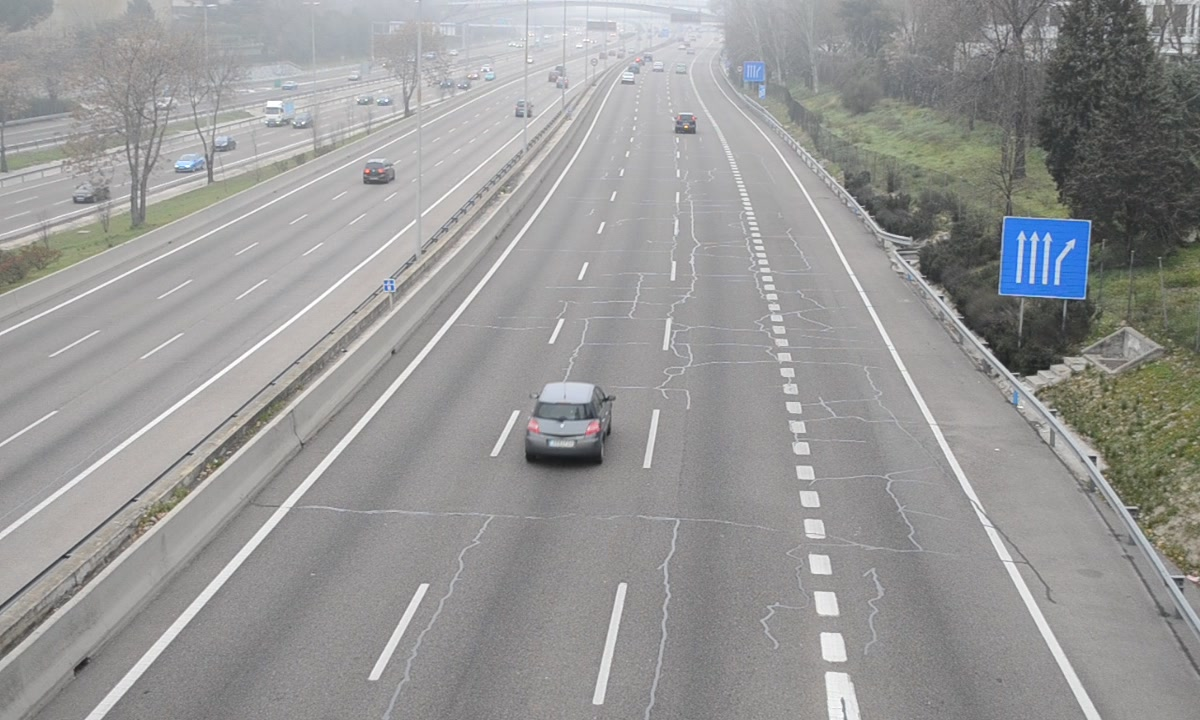car: (526, 384, 609, 462), (675, 112, 698, 134)
